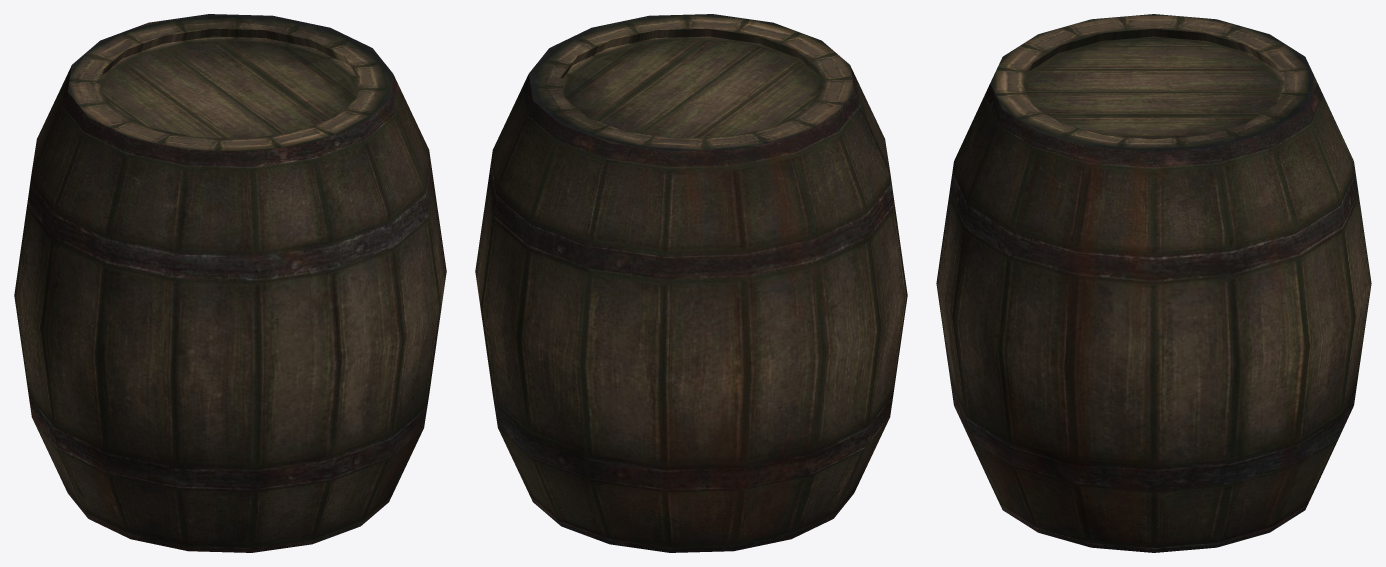
Rendered from Barril_v1.fbx.
3 views of the same model, side by side, from view 1: azimuth 30°, elevation 25°; view 2: azimuth 150°, elevation 25°; view 3: azimuth 270°, elevation 25° (orthographic).
Parts seen in each view (by area): view 1: Barril; view 2: Barril; view 3: Barril.
Part boxes in pixels (<box>): Barril: <box>14,14,446,552</box>; Barril: <box>475,14,907,552</box>; Barril: <box>936,14,1371,552</box>.
Bounding box in the file's own units: 337 × 343 × 337.
Materials: 1 (1 with a texture image).
